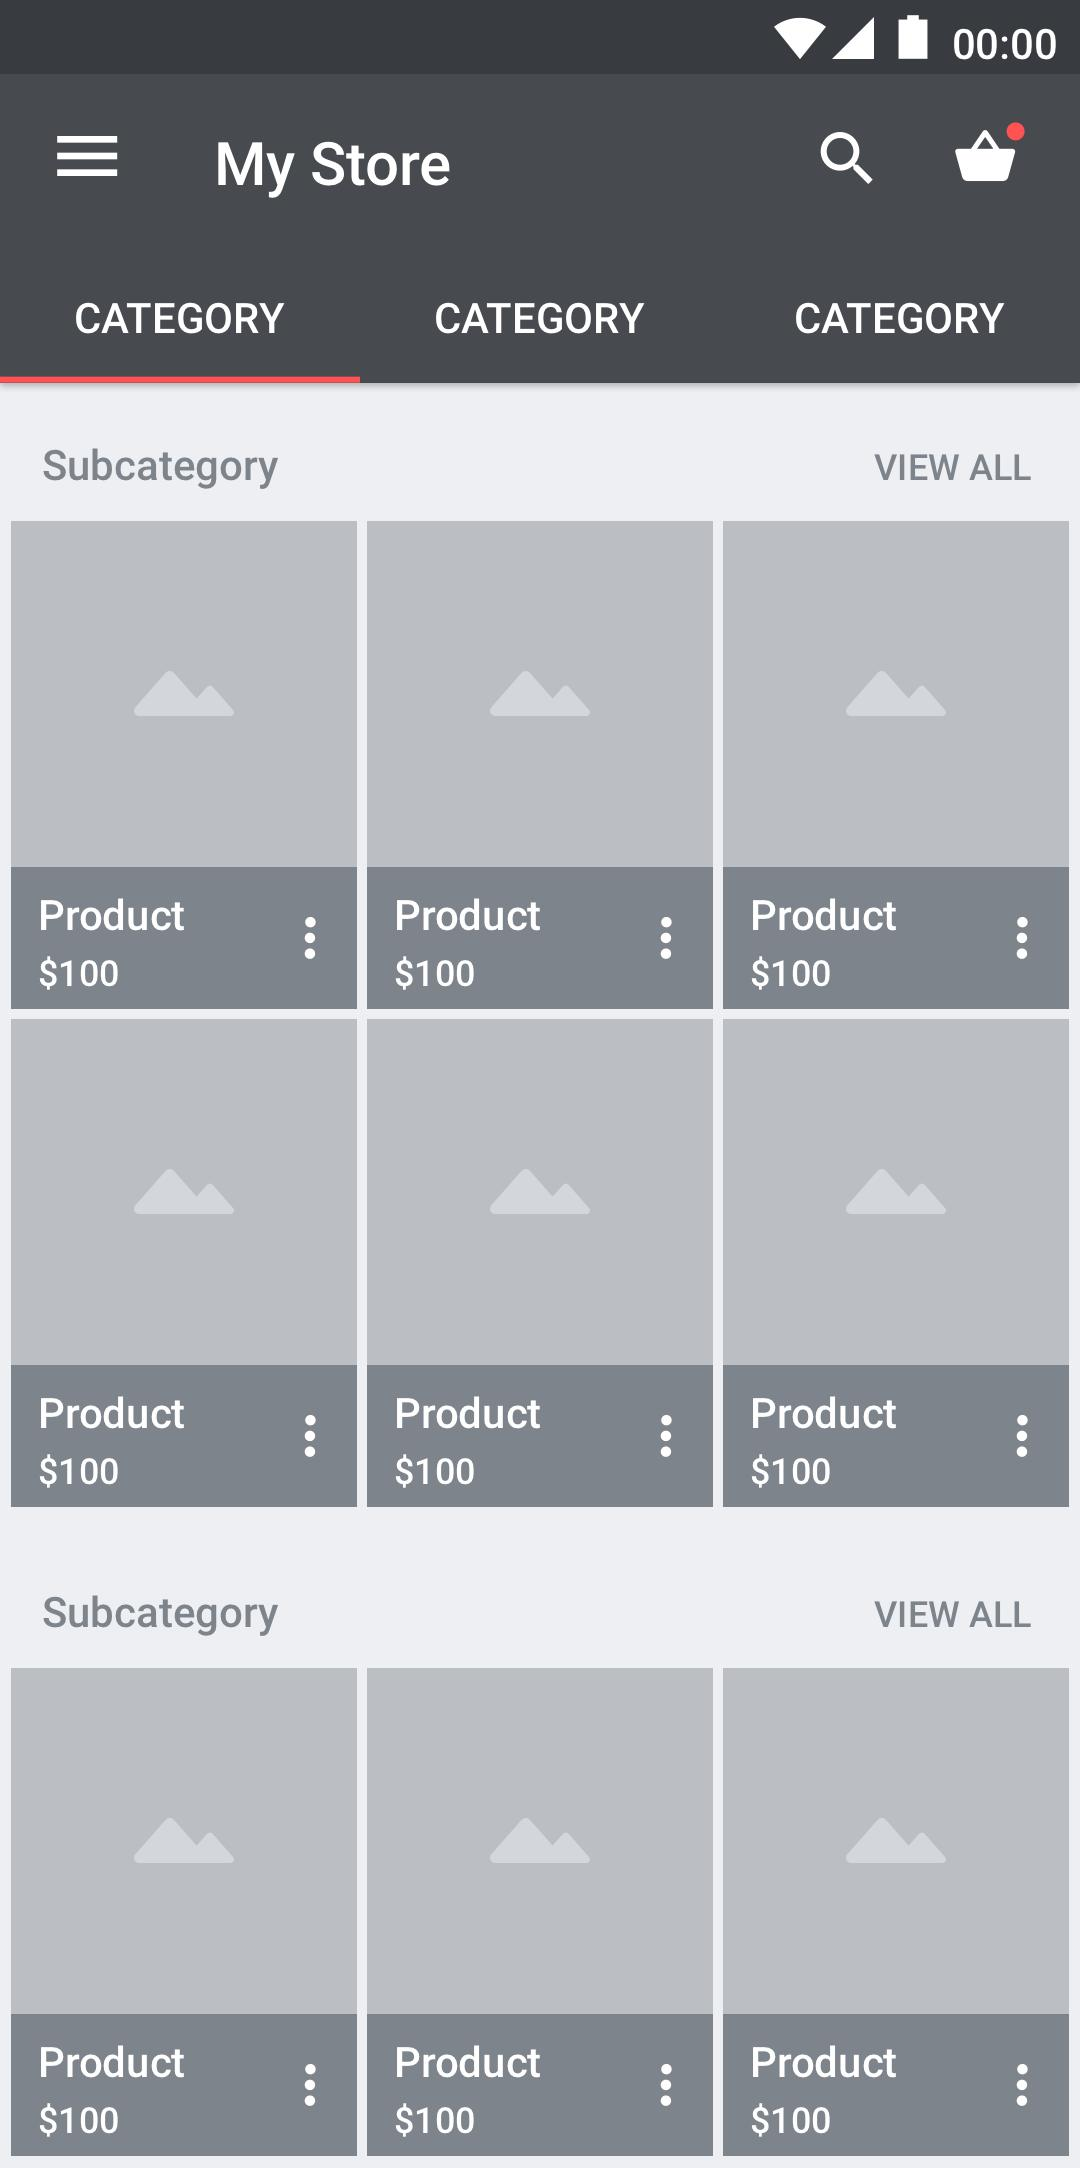Icon: (956, 122, 1026, 183), (820, 131, 874, 187), (57, 135, 120, 178), (1015, 1412, 1030, 1459), (660, 2062, 673, 2109), (1015, 2062, 1029, 2109), (304, 915, 318, 961), (660, 915, 673, 961), (304, 1413, 318, 1459), (304, 2062, 317, 2107), (1015, 917, 1027, 961)
Image: (723, 521, 1070, 868), (366, 1667, 714, 2015), (366, 523, 714, 868), (368, 1019, 714, 1366), (11, 1667, 357, 2015), (12, 521, 358, 867), (725, 1019, 1070, 1365), (723, 1669, 1069, 2015), (12, 1020, 358, 1365)
Text: (217, 141, 449, 200), (43, 447, 279, 492), (41, 1594, 279, 1638), (75, 301, 286, 336), (436, 301, 644, 336), (797, 303, 1005, 336), (393, 1395, 543, 1432), (752, 1392, 897, 1431), (751, 897, 897, 935), (395, 2042, 542, 2080), (395, 897, 543, 933), (40, 897, 187, 933), (40, 2044, 187, 2080), (752, 2042, 897, 2078), (40, 1396, 187, 1431), (873, 454, 1032, 483), (874, 1598, 1033, 1627), (394, 1450, 478, 1488), (39, 954, 122, 991), (750, 954, 832, 991), (39, 1452, 120, 1489), (39, 2102, 120, 2139), (752, 2102, 832, 2139), (752, 1453, 831, 1490), (395, 955, 476, 991), (395, 2102, 476, 2138)
UpperTaskBar: (1, 1, 1080, 76)
